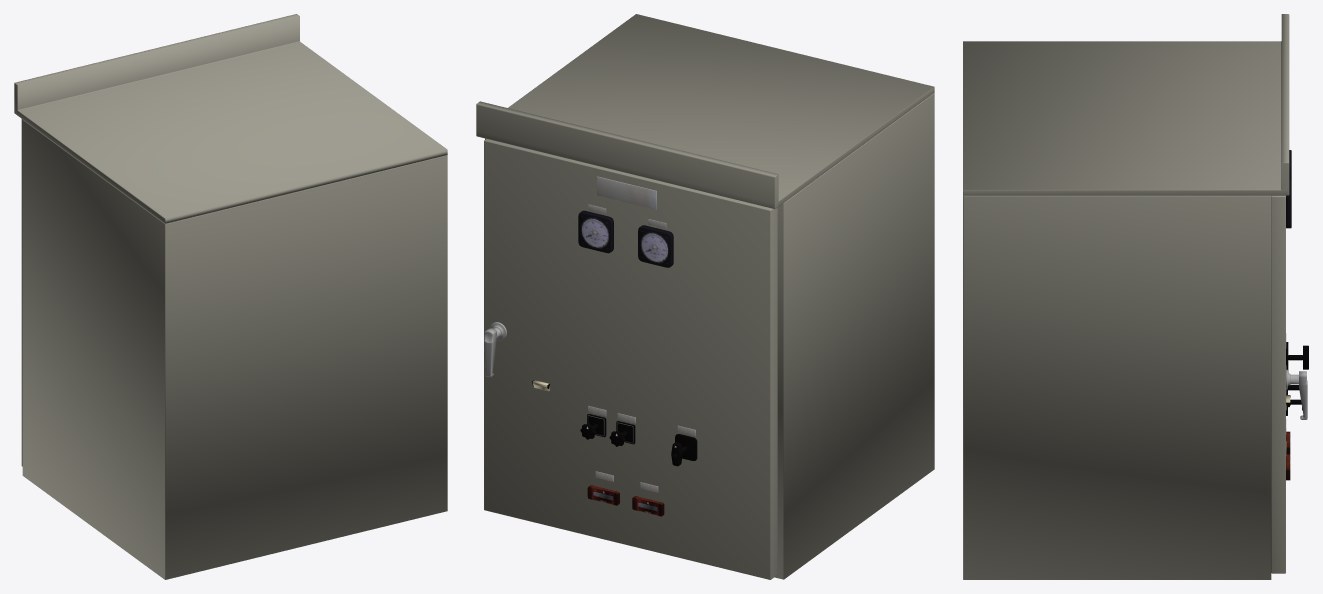
3 views of the same model, side by side, from view 1: azimuth 30°, elevation 25°; view 2: azimuth 150°, elevation 25°; view 3: azimuth 270°, elevation 25° (orthographic). The views are drawn at different scales.
Visible parts, largest first — view 1: Group009, u12_door_a001; view 2: Group009, u12_door_a001, u01A_dia063, u01A_dia064, u01A_np036, handle057; view 3: Group009, u12_door_a001, handle057.
Part boxes in pixels (x1,y1,x2,y2): Group009: [14, 14, 447, 579]; u12_door_a001: [21, 119, 22, 466]; Group009: [476, 14, 934, 579]; u12_door_a001: [484, 139, 777, 579]; u01A_dia063: [578, 210, 613, 253]; u01A_dia064: [638, 225, 673, 267]; u01A_np036: [597, 176, 656, 209]; handle057: [484, 322, 506, 377]; Group009: [963, 14, 1301, 579]; u12_door_a001: [1271, 195, 1285, 573]; handle057: [1286, 369, 1307, 419].
Bounding box in the file's own units: 0.96 × 1.26 × 0.9424.
Materials: 11 (7 with a texture image).
